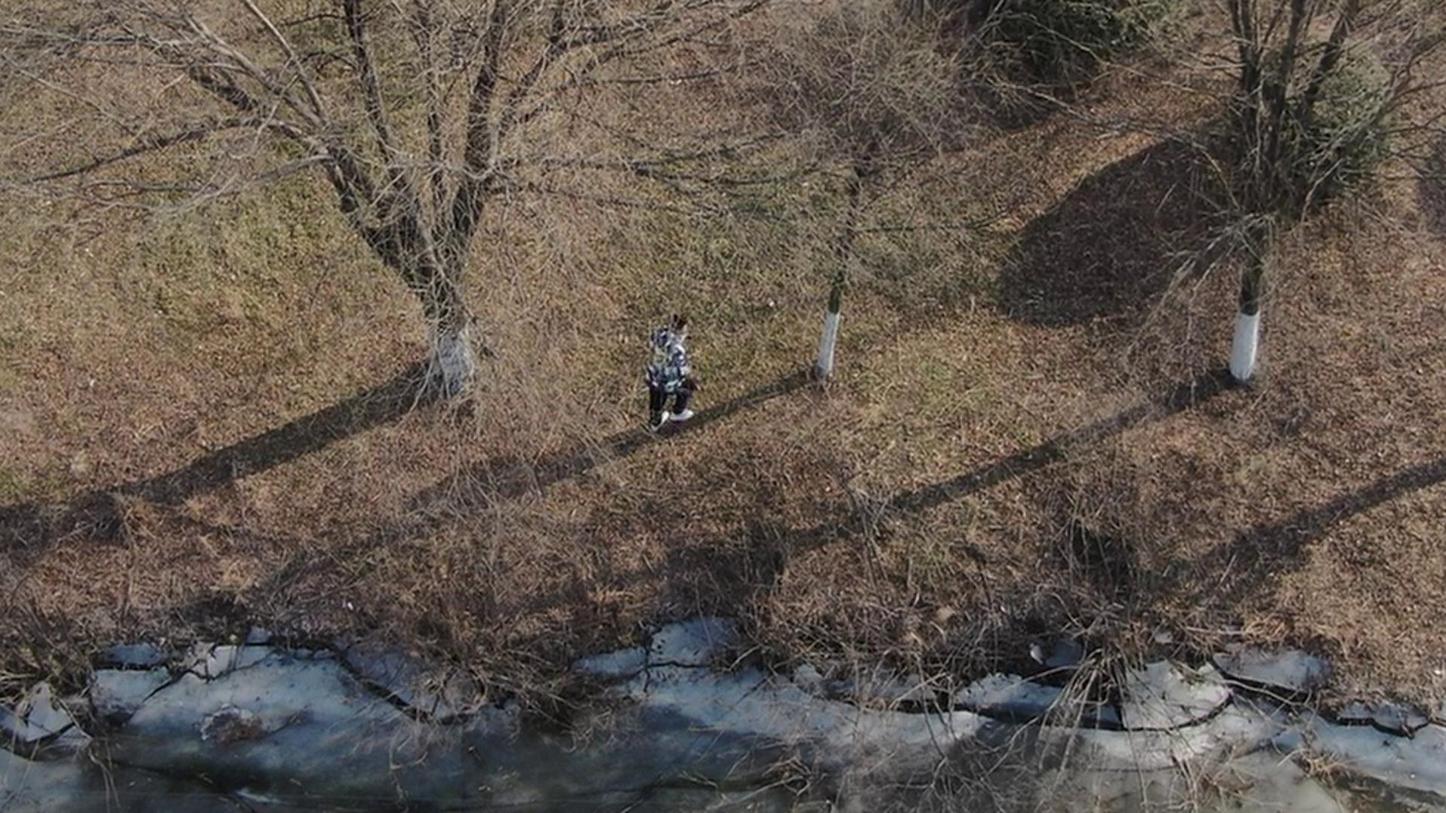human: (661, 330, 709, 430)
